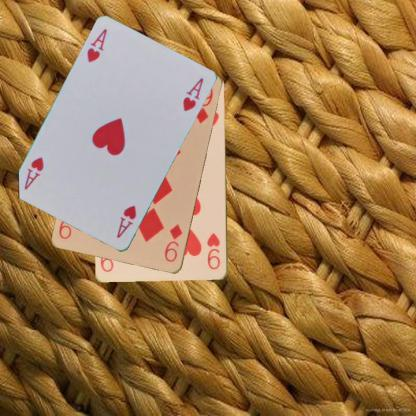9d: (162, 221, 184, 264)
9h: (204, 231, 222, 271)
Ah: (84, 26, 108, 64), (114, 203, 138, 240)
